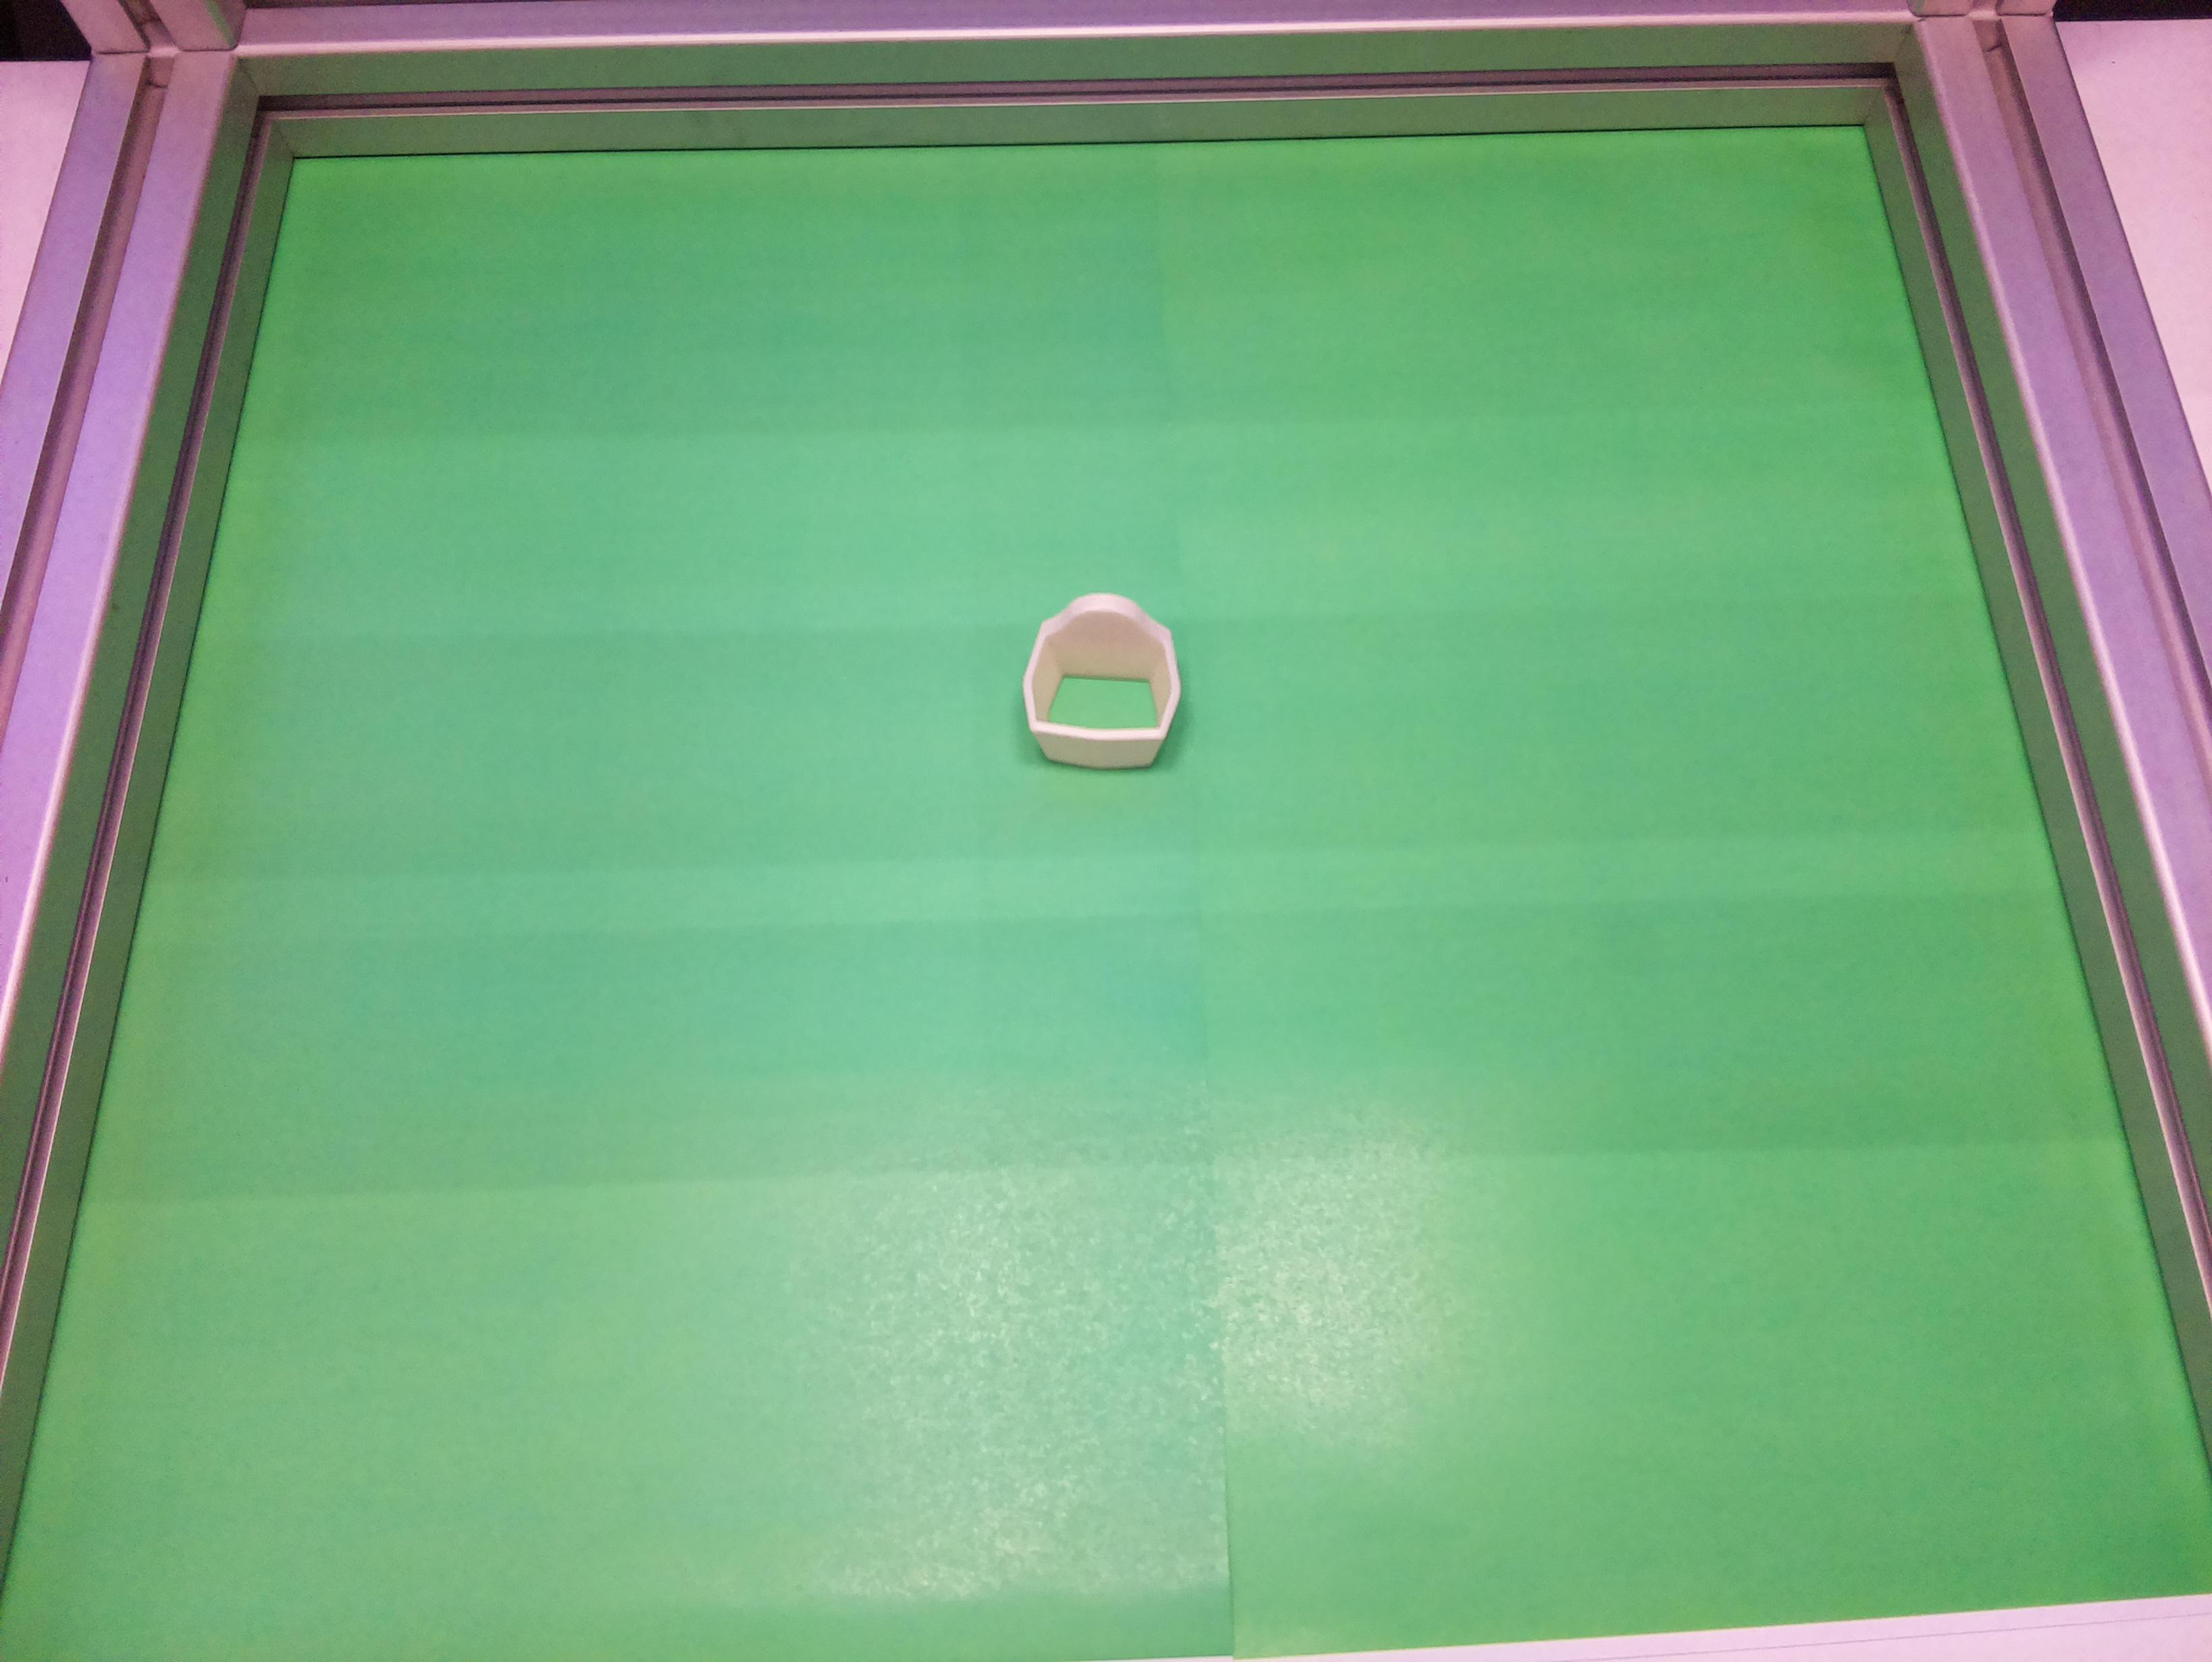tool_holder: (1002, 576, 1203, 791)
